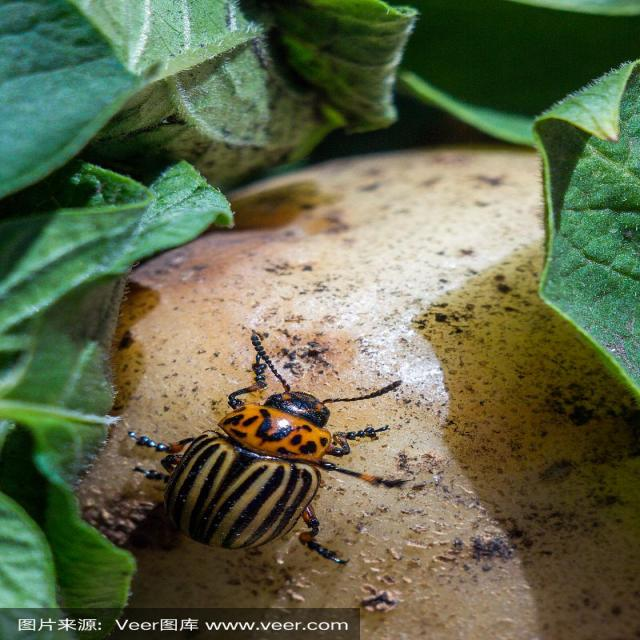ShuCaiHuaBanChong-Grown-: (156, 382, 388, 557)
